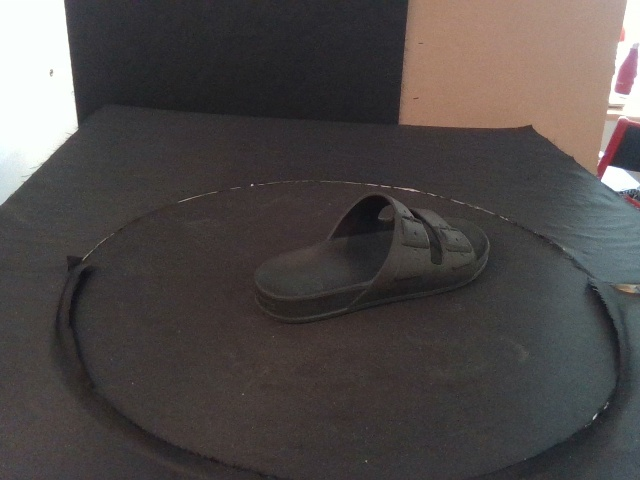shoe: (253, 190, 493, 326)
